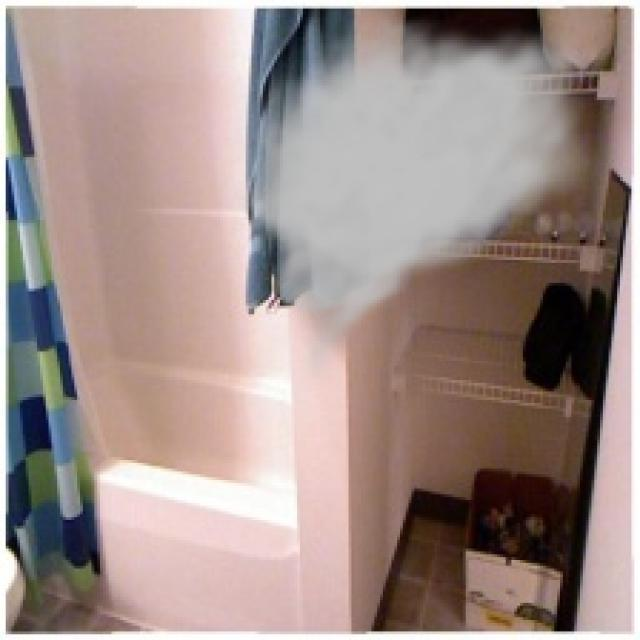Smoke: (226, 11, 608, 392)
